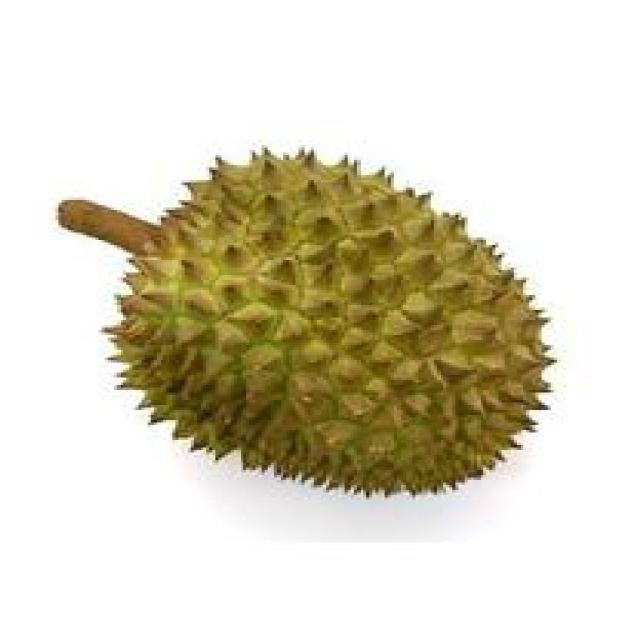non_orange: (51, 120, 576, 510)
